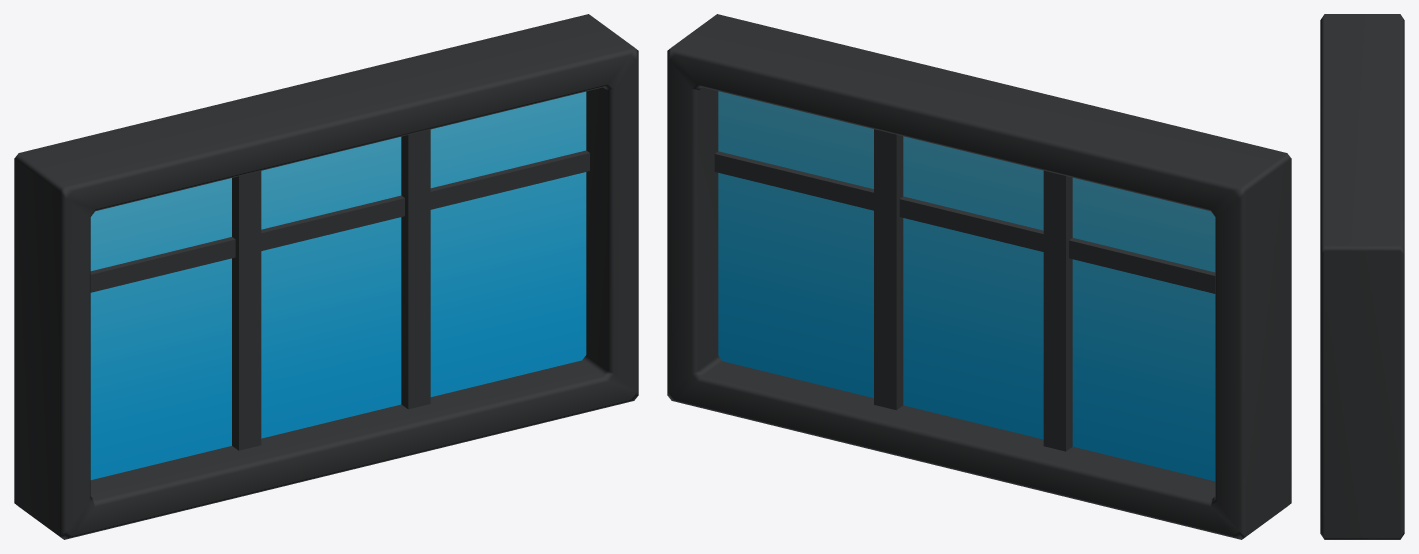
File: Window_Black_03.glb
The picture shows the model from 3 angles, left to right: view 1: azimuth 30°, elevation 25°; view 2: azimuth 150°, elevation 25°; view 3: azimuth 270°, elevation 25°; orthographic projection. The views are drawn at different scales.
Parts seen in each view (by area): view 1: Window_Black_03; view 2: Window_Black_03; view 3: Window_Black_03.
Boxes of the visible parts, box(x1,y1,x2,y2) form: Window_Black_03: box(14, 14, 638, 539); Window_Black_03: box(667, 14, 1291, 539); Window_Black_03: box(1320, 14, 1404, 539).
Size of the model in its own units: 2.64 by 1.54 by 0.4.
Materials: 2 (2 with a texture image).
